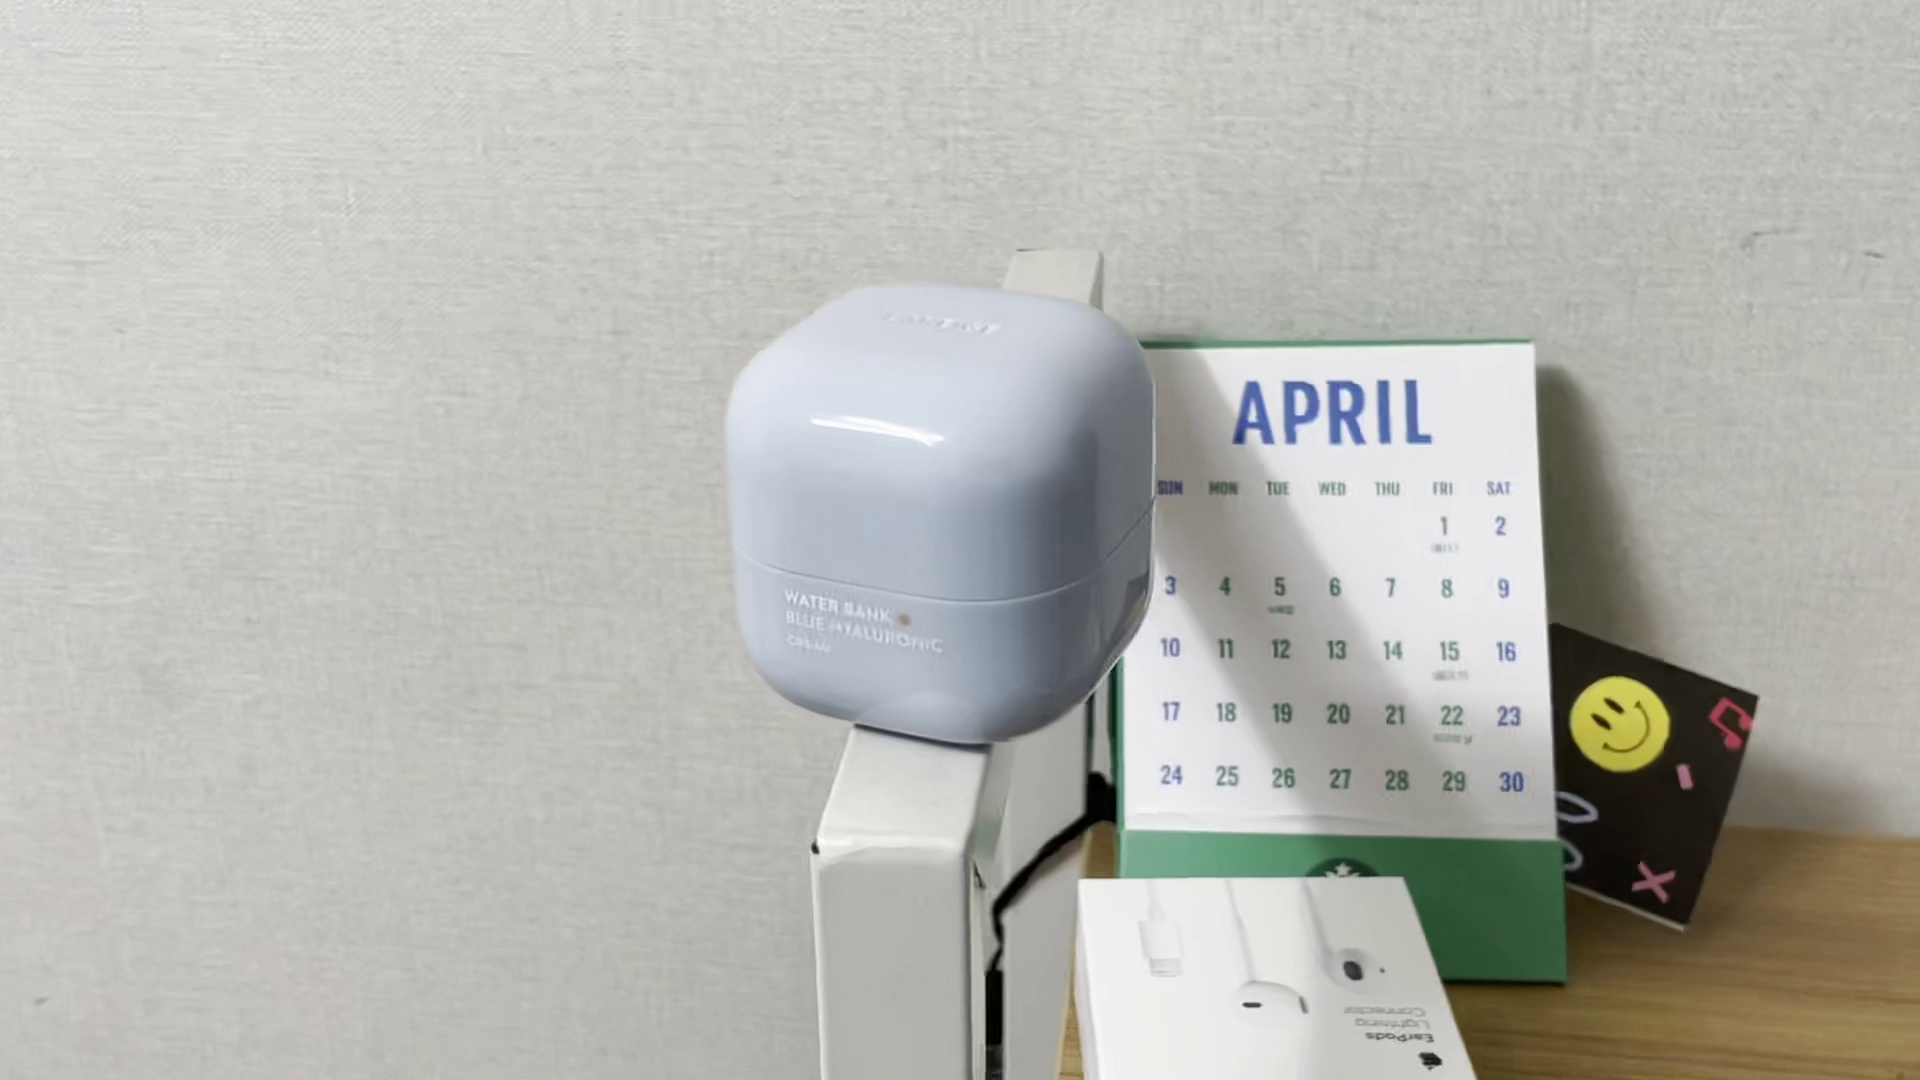cream: (712, 270, 1163, 756)
